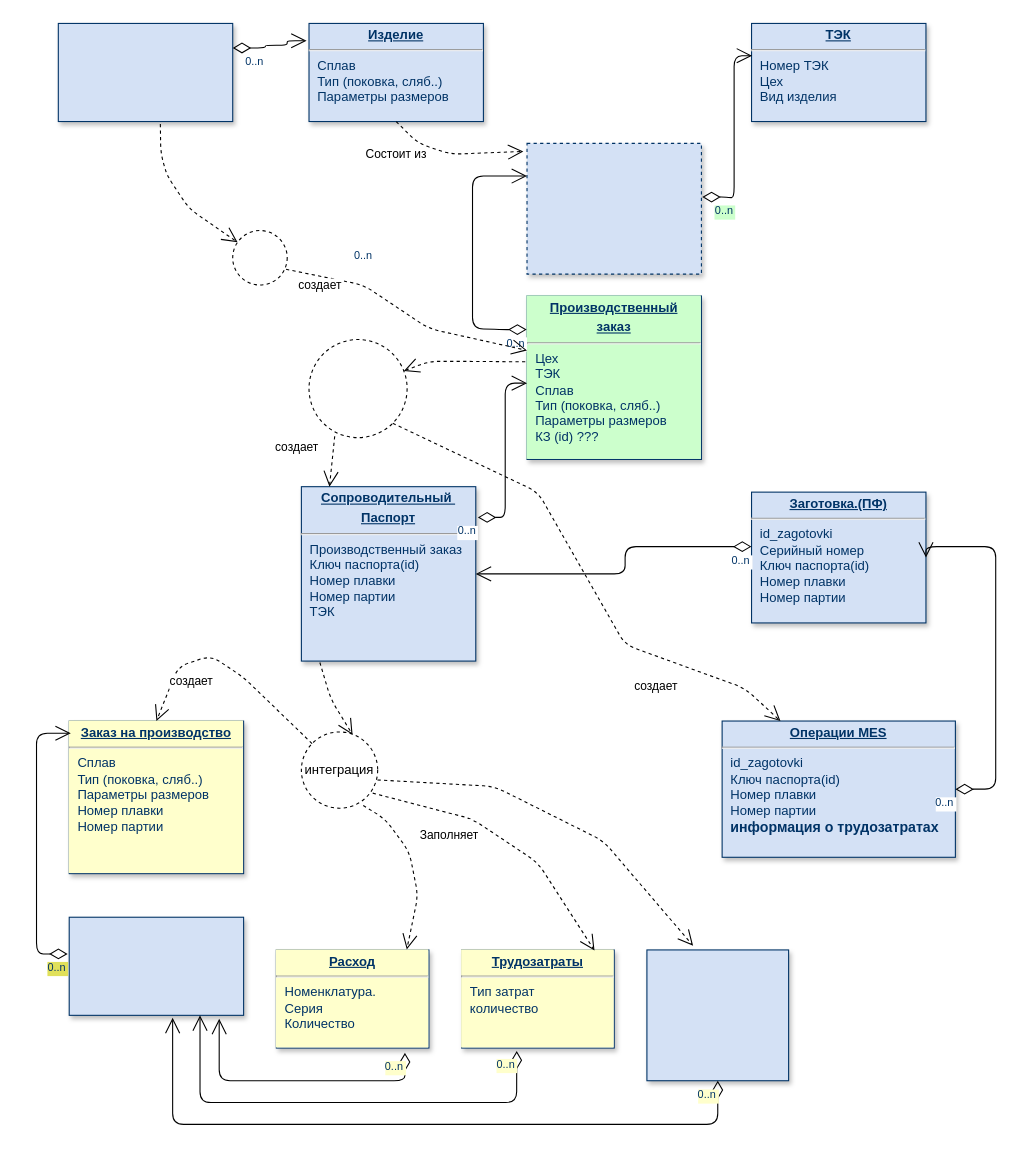
The diagram is 1033 pixels wide and 1162 high, and some of its shapes have lost their labels. The shapes that lost their labels are listed below. From the top down, each one's centre as x and y in pixels, then its label:
At pixel 146 73: "Заказ клиента КЗ (id) Изделие".
At pixel 615 210: "Производственная цепочка для изделия ТЭК1 .. ТЭКn ТЭКn+1".
At pixel 259 257: "Logis".
At pixel 357 388: "производство".
At pixel 157 967: "Этап производства трудозатраты (список) расход (список) выпуск (список)".
At pixel 718 1016: "Выпуск Номенклатура. Серия Номер плавки Номер партии Количество".
